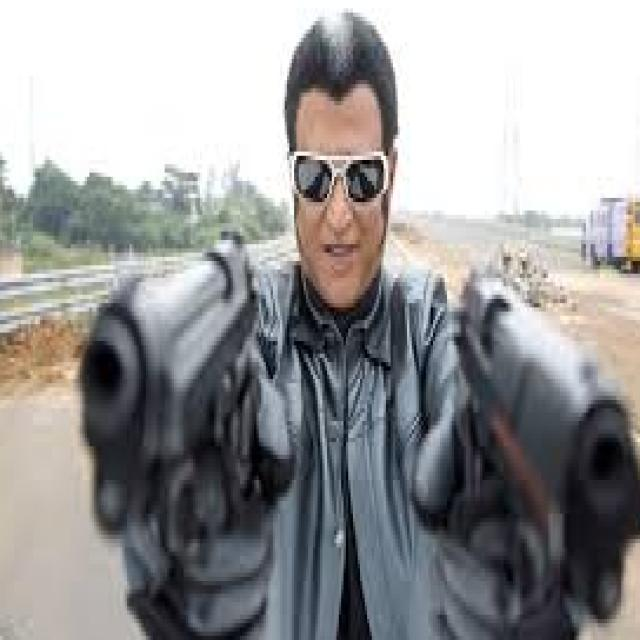gun: (66, 198, 318, 640), (409, 240, 640, 640)
